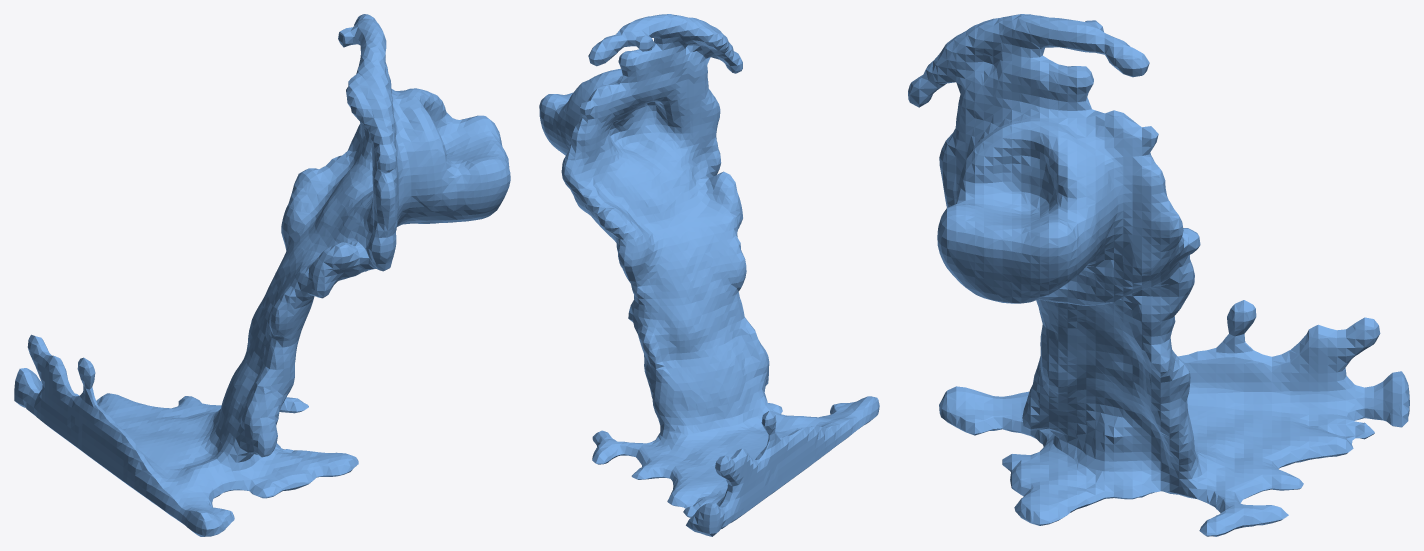
Rendered from water_0038.glb.
3 renders of one model, left to right at view 1: azimuth 30°, elevation 25°; view 2: azimuth 150°, elevation 25°; view 3: azimuth 270°, elevation 25°, orthographic. The views are drawn at different scales.
Parts seen in each view (by area): view 1: Water_0038; view 2: Water_0038; view 3: Water_0038.
Boxes of the visible parts, x1,y1,x2,y2 form: Water_0038: (14,14,510,536); Water_0038: (539,14,879,536); Water_0038: (908,14,1409,536).
Size of the model in its own units: 3.04 by 3.65 by 3.15.
